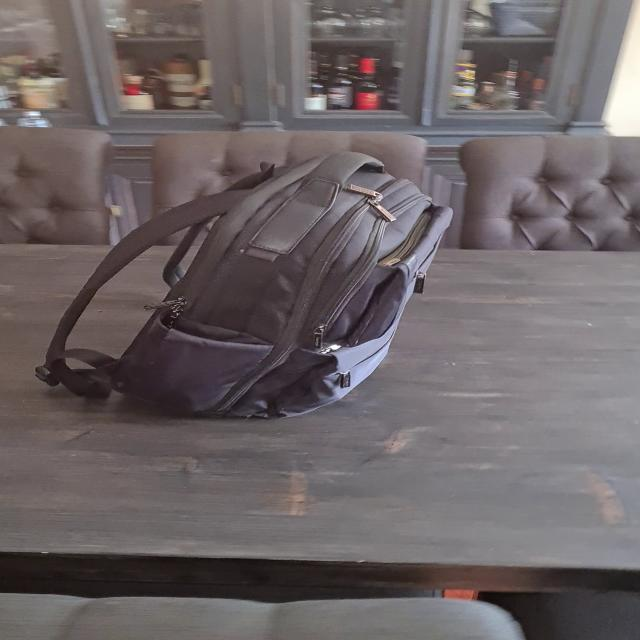backpack: (66, 140, 460, 426)
